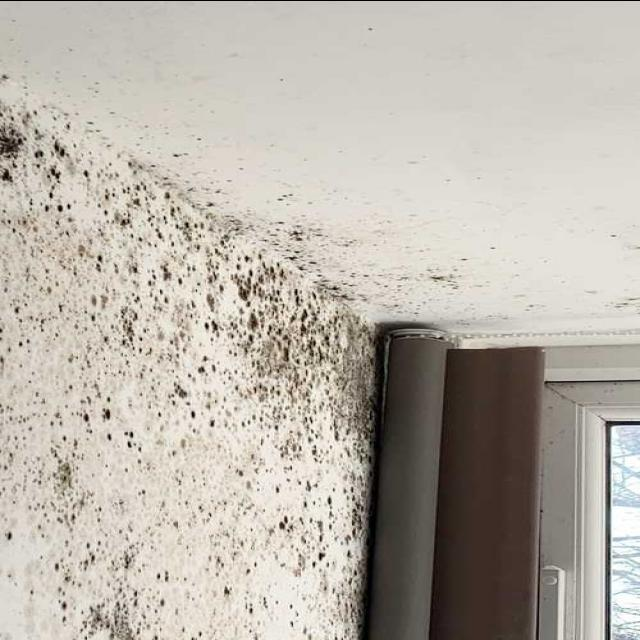leak: (0, 74, 396, 640)
